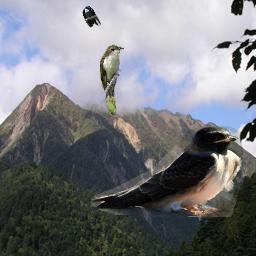Cuckoo: (100, 43, 124, 115)
Swallow: (89, 126, 243, 217), (82, 5, 101, 28)
